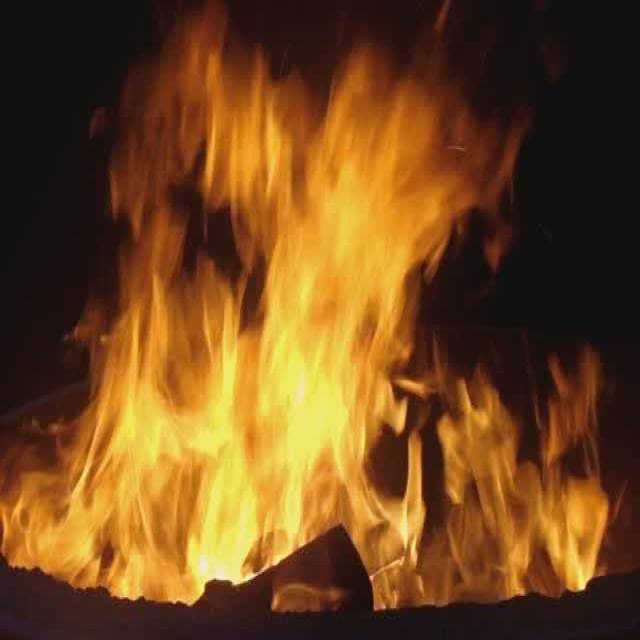Fire: (0, 0, 609, 612)
